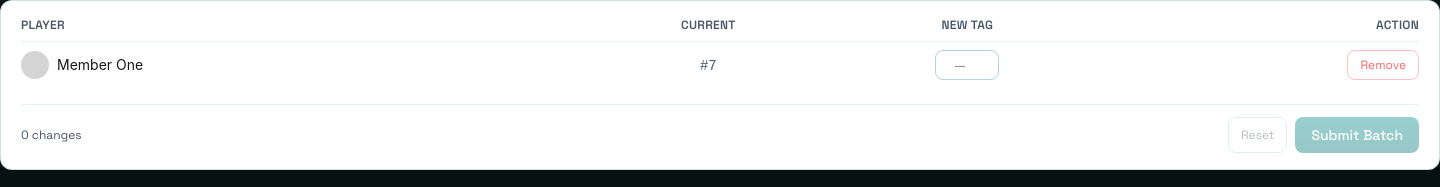
Test: TagEditor › submit button is enabled after making a change
In the number field: (967, 65) x1=935 y1=50 x2=999 y2=80, type "5"
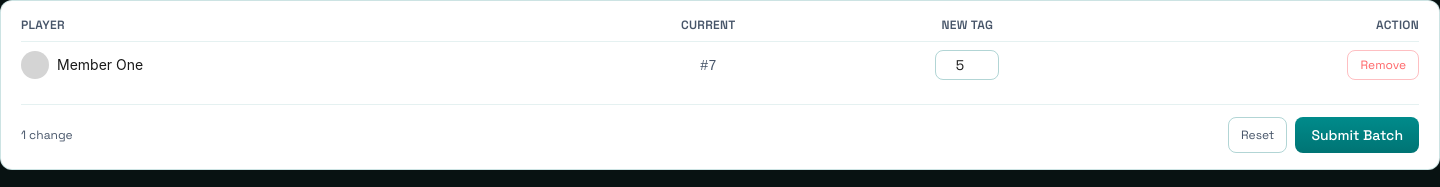
Result: the button "Submit Batch" is enabled at x1=1295 y1=117 x2=1419 y2=153
